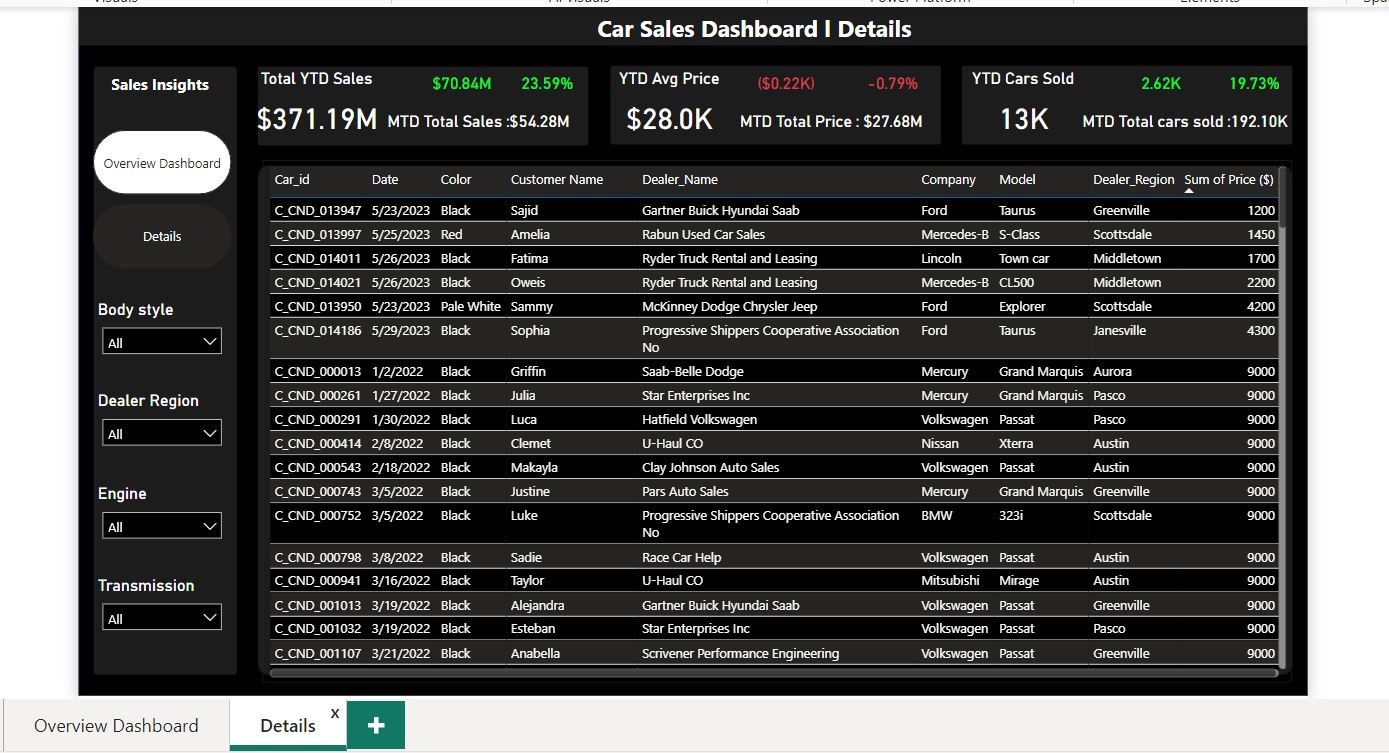

The dashboard page shown, as its layout file describes it:
{"tool":"powerbi","page":{"name":"Details","canvas":[1280,720],"ordinal":1},"visuals":[{"type":"card","title":"Total YTD Sales","fields":{"Values":["car_data.TotalYTD"]},"box":[176,64,144,80],"z":0},{"type":"card","title":"Sales difference ","fields":{"Values":["car_data.Sales difference"]},"box":[352,64,96,32],"z":1000},{"type":"card","title":"Sales difference ","fields":{"Values":["car_data.Sales growth"]},"box":[448,64,80,32],"z":2000},{"type":"card","fields":{"Values":["car_data.MTD KPI"]},"box":[304,96,224,48],"z":3000},{"type":"card","title":"YTD Avg Price","fields":{"Values":["car_data.YTD Avg Price"]},"box":[544,64,144,80],"z":4000},{"type":"card","title":"Sales difference ","fields":{"Values":["car_data.Avg Price Difference"]},"box":[688,64,96,32],"z":5000},{"type":"card","title":"Sales difference ","fields":{"Values":["car_data.Yoy Price Growth"]},"box":[800,64,96,32],"z":6000},{"type":"card","fields":{"Values":["car_data.MTD KPI Price"]},"box":[656,96,256,48],"z":7000},{"type":"card","title":"YTD Cars Sold","fields":{"Values":["car_data.YTD Cars Sold"]},"box":[912,64,144,80],"z":8000},{"type":"card","title":"Sales difference ","fields":{"Values":["car_data.CARS SOLD DIFFERENCE"]},"box":[1072,64,112,32],"z":9000},{"type":"card","title":"Sales difference ","fields":{"Values":["car_data.Yoy Cars Sold Growth"]},"box":[1168,64,112,32],"z":10000},{"type":"card","fields":{"Values":["car_data.MTD Total Cars Sold"]},"box":[1024,96,256,48],"z":11000},{"type":"textbox","box":[512,0,384,48],"z":17000},{"type":"slicer","title":"Body style","fields":{"Values":["car_data.Body Style"]},"box":[16,304,144,96],"z":18000},{"type":"slicer","title":"Dealer Region","fields":{"Values":["car_data.Dealer_Region"]},"box":[16,400,144,96],"z":19000},{"type":"slicer","title":"Engine","fields":{"Values":["car_data.Engine"]},"box":[16,496,144,96],"z":20000},{"type":"slicer","title":"Transmission","fields":{"Values":["car_data.Transmission"]},"box":[16,592,144,96],"z":21000},{"type":"tableEx","title":"Details","fields":{"Values":["car_data.Car_id","car_data.Date","car_data.Color","car_data.Customer Name","car_data.Dealer_Name","car_data.Company","car_data.Model","car_data.Dealer_Region","car_data.Price ($)"]},"box":[192,160,1072,544],"z":21001},{"type":"textbox","box":[16,64,144,48],"z":21002},{"type":"pageNavigator","box":[16,128,144,144],"z":21003}]}

Visuals, with their boxes on the page's 1280x720 design canvas (x1, y1, x2, y2). These are canvas units, not pixel positions in the 1389x753 screenshot, which may show the page scaled, cropped or inside an application window:
"Total YTD Sales" card: (176, 64, 320, 144)
"Sales difference " card: (352, 64, 448, 96)
"Sales difference " card: (448, 64, 528, 96)
card - car_data.MTD KPI: (304, 96, 528, 144)
"YTD Avg Price" card: (544, 64, 688, 144)
"Sales difference " card: (688, 64, 784, 96)
"Sales difference " card: (800, 64, 896, 96)
card - car_data.MTD KPI Price: (656, 96, 912, 144)
"YTD Cars Sold" card: (912, 64, 1056, 144)
"Sales difference " card: (1072, 64, 1184, 96)
"Sales difference " card: (1168, 64, 1280, 96)
card - car_data.MTD Total Cars Sold: (1024, 96, 1280, 144)
textbox: (512, 0, 896, 48)
"Body style" slicer: (16, 304, 160, 400)
"Dealer Region" slicer: (16, 400, 160, 496)
"Engine" slicer: (16, 496, 160, 592)
"Transmission" slicer: (16, 592, 160, 688)
"Details" tableEx: (192, 160, 1264, 704)
textbox: (16, 64, 160, 112)
pageNavigator: (16, 128, 160, 272)
